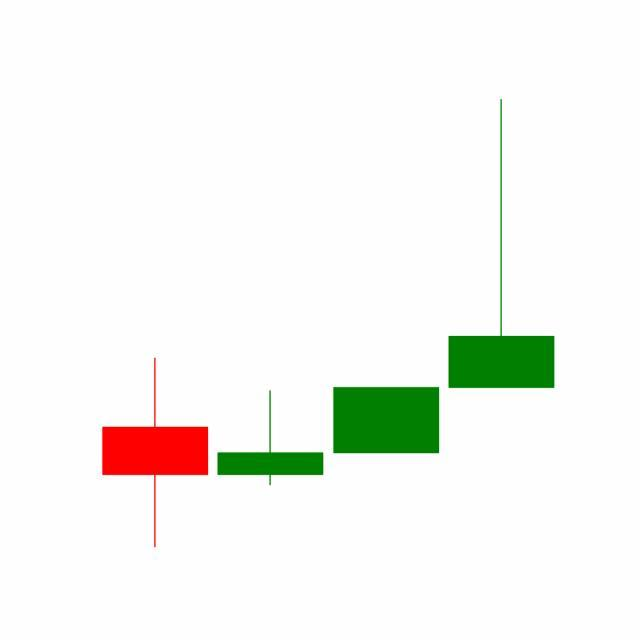Marubozu: (329, 387, 445, 455)
